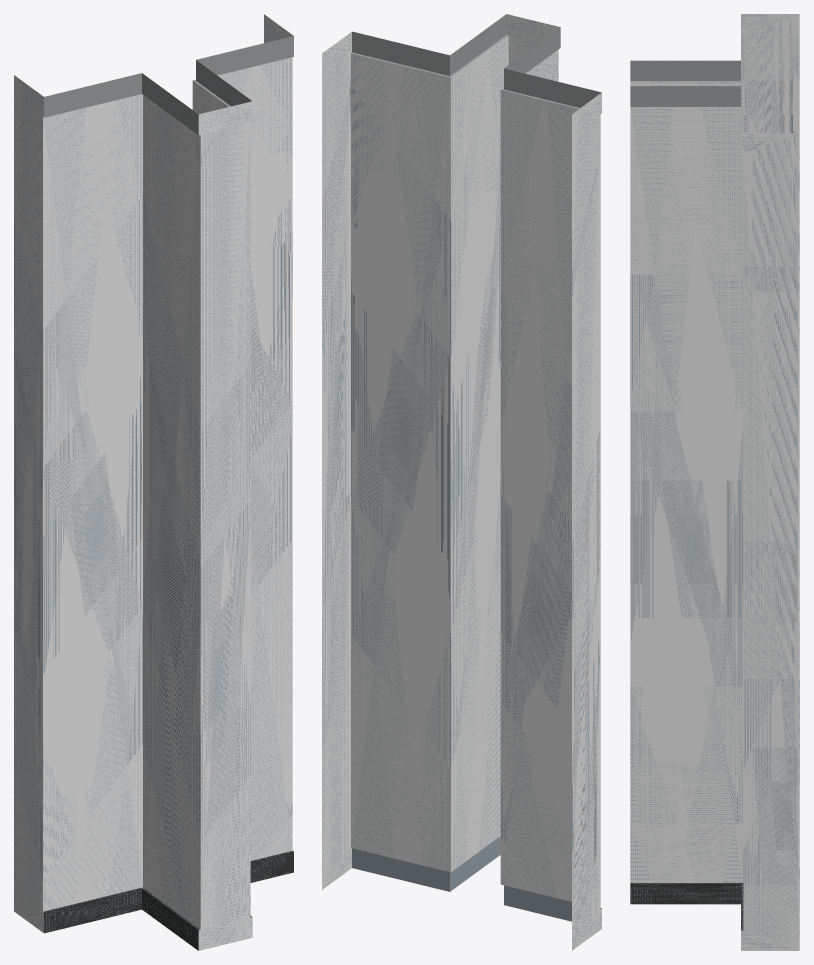
The model's file is Corner_os_double_plinth_050x050x025x4.dae.
The picture shows the model from 3 angles, left to right: view 1: azimuth 30°, elevation 25°; view 2: azimuth 150°, elevation 25°; view 3: azimuth 270°, elevation 25°; orthographic projection. The views are drawn at different scales.
Parts seen in each view (by area): view 1: group_0 (×5); view 2: group_0 (×5); view 3: group_0 (×4).
Boxes of the visible parts, left/top/right/bottom form: group_0 (×5): left=14, top=14, right=293, bottom=950; group_0 (×5): left=322, top=14, right=601, bottom=950; group_0 (×4): left=630, top=14, right=799, bottom=950.
Bounding box in the file's own units: 49.21 × 29.53 × 157.
